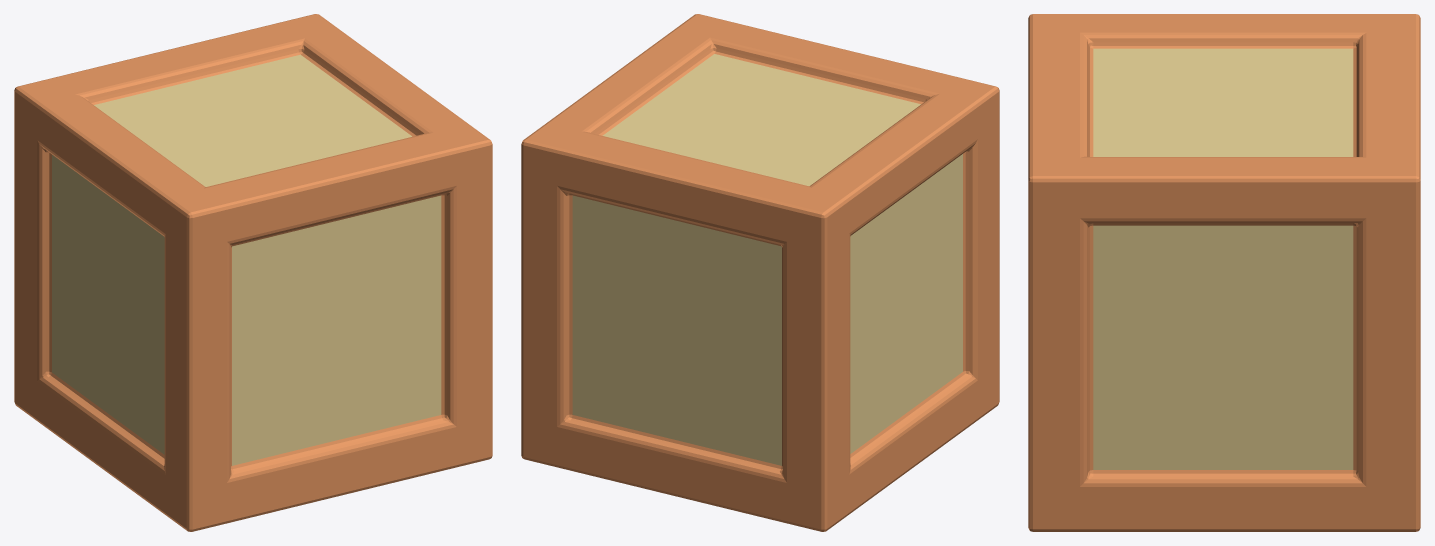
Rendered from wooden boxes.fbx.
The picture shows the model from 3 angles, left to right: view 1: azimuth 30°, elevation 25°; view 2: azimuth 150°, elevation 25°; view 3: azimuth 270°, elevation 25°; orthographic projection. The views are drawn at different scales.
Visible parts, largest first — view 1: Cube.019; view 2: Cube.019; view 3: Cube.019.
Boxes of the visible parts, <box> form: Cube.019: <box>14,14,492,531</box>; Cube.019: <box>521,14,999,531</box>; Cube.019: <box>1028,14,1420,531</box>.
Bounding box in the file's own units: 58.5 × 58.5 × 58.5.
